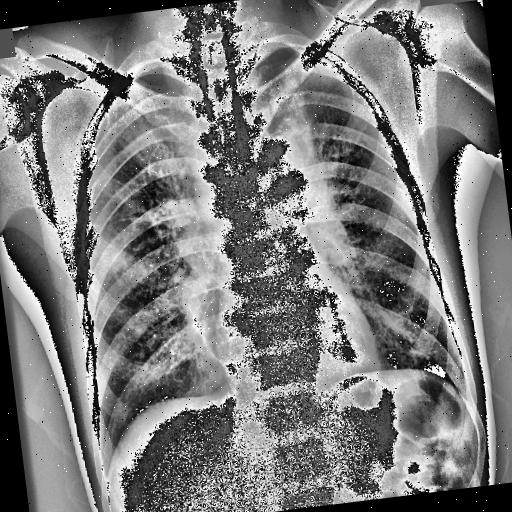0- Aortic enlargement: (242, 124, 314, 224), (236, 135, 304, 223), (246, 136, 312, 226)
11- Pleural thickening: (136, 58, 178, 74)
13- Pulmonary fibrosis: (182, 296, 236, 390), (180, 306, 232, 380), (186, 299, 228, 374)
5- ILD: (250, 46, 438, 384), (65, 86, 223, 422), (280, 68, 428, 378), (80, 92, 216, 404), (317, 92, 436, 370), (94, 146, 194, 414)
